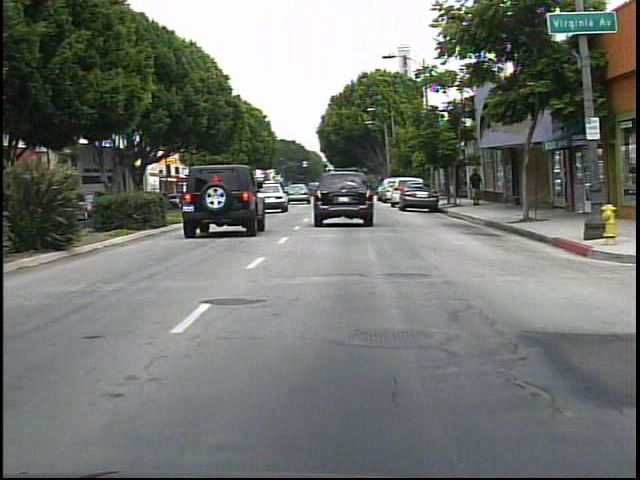person: (466, 167, 487, 209)
